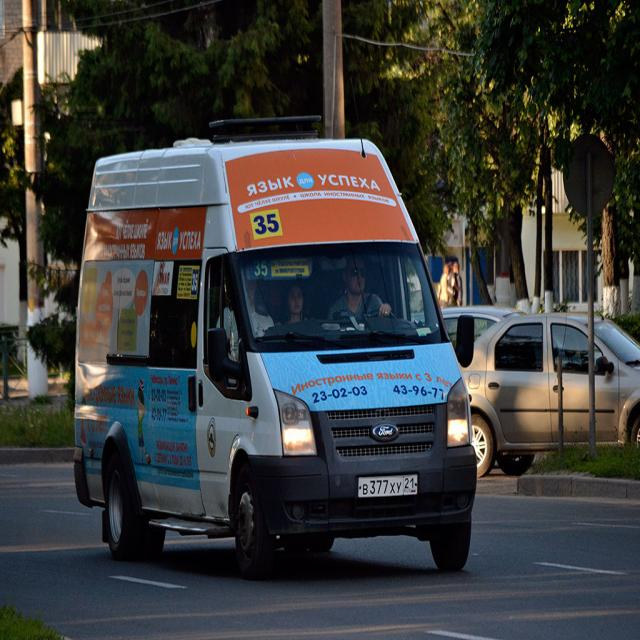number-of-bus: (251, 207, 283, 240), (252, 255, 270, 280)
